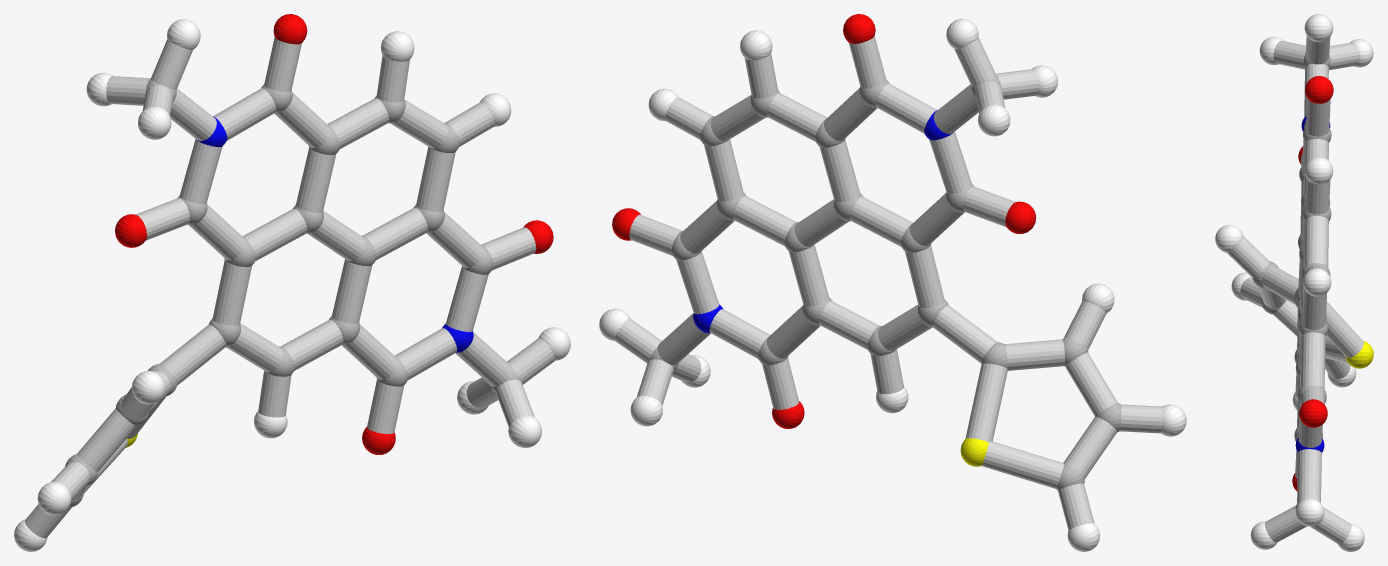
File: Dimethyl_Naphthalene_Dicarboximide_Phi_10_Theta_310_Thiophene.glb
3 views of the same model, side by side, from view 1: azimuth 30°, elevation 25°; view 2: azimuth 150°, elevation 25°; view 3: azimuth 270°, elevation 25° (orthographic). The views are drawn at different scales.
Visible parts, largest first — view 1: grp14119, grp7241, grp1, grp12309, grp11585; view 2: grp14119, grp7241, grp1, grp12309, grp11585; view 3: grp14119, grp7241, grp1, grp12309, grp13757, grp11585.
Boxes of the visible parts, x1,y1,x2,y2 form: grp14119: (25, 37, 555, 538); grp7241: (14, 19, 570, 551); grp1: (65, 79, 520, 507); grp12309: (115, 14, 553, 454); grp11585: (196, 116, 473, 352); grp14119: (614, 36, 1163, 529); grp7241: (599, 18, 1186, 551); grp1: (649, 74, 1121, 490); grp12309: (612, 14, 1036, 428); grp11585: (693, 110, 953, 333); grp14119: (1227, 36, 1364, 544); grp7241: (1215, 14, 1373, 551); grp1: (1252, 54, 1331, 509); grp12309: (1292, 76, 1333, 491); grp13757: (1345, 340, 1373, 368); grp11585: (1295, 116, 1330, 452).
Size of the model in its own units: 11.61 by 9.9 by 3.32.
